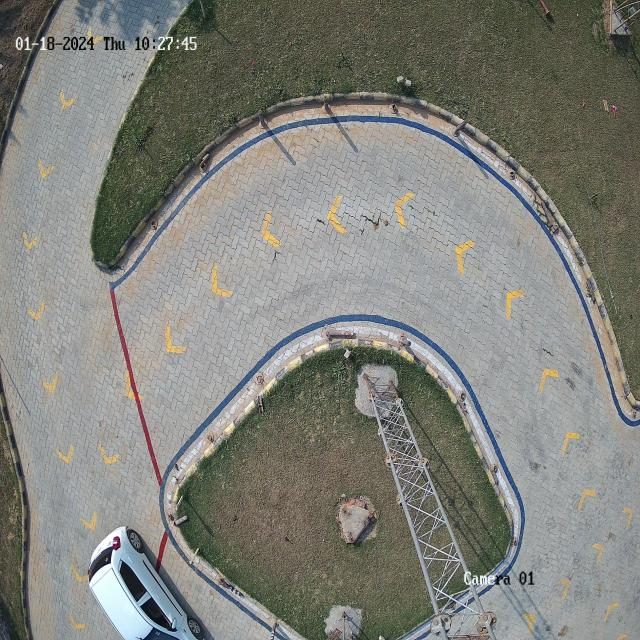car: (88, 527, 204, 640)
